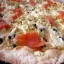pepperoni: (14, 30, 46, 51)
pizza: (1, 1, 64, 64)
